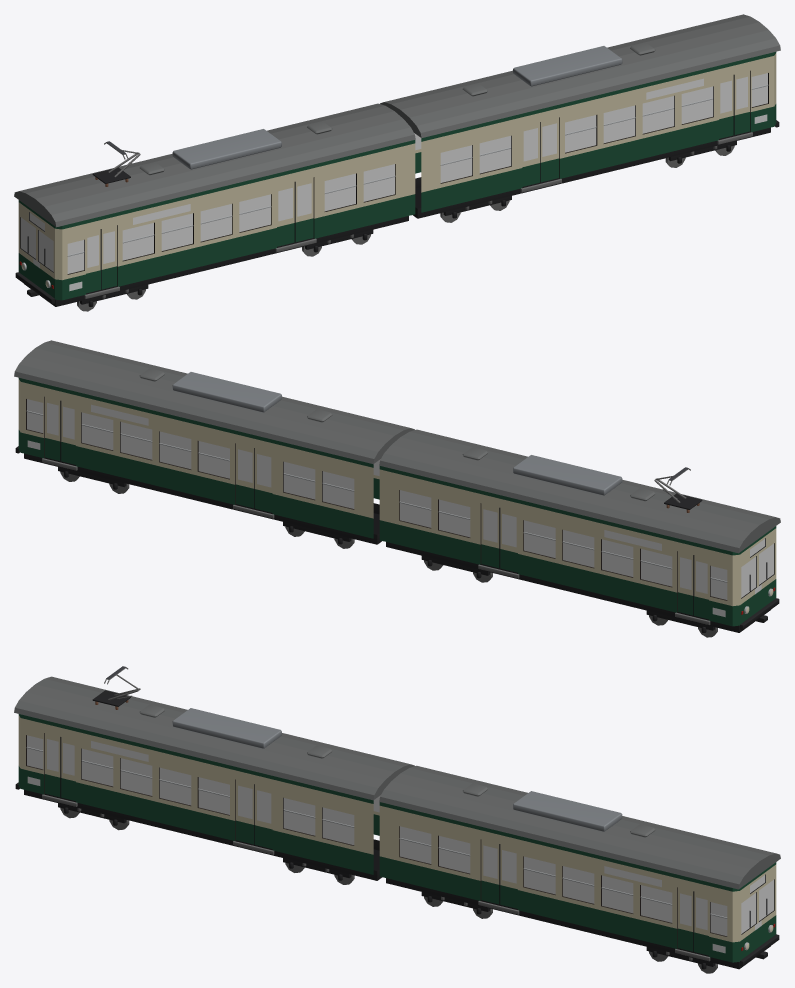
Rendered from TramKM.fbx.
3 views of the same model, one above another, from view 1: azimuth 30°, elevation 25°; view 2: azimuth 150°, elevation 25°; view 3: azimuth 330°, elevation 25° (orthographic).
Parts seen in each view (by area): view 1: TramKM; view 2: TramKM; view 3: TramKM.
Boxes of the visible parts, x1,y1,x2,y2 form: TramKM: (14, 14, 780, 311); TramKM: (14, 340, 780, 637); TramKM: (14, 666, 780, 973).
Bounding box in the file's own units: 25.56 × 4.9 × 2.62.
